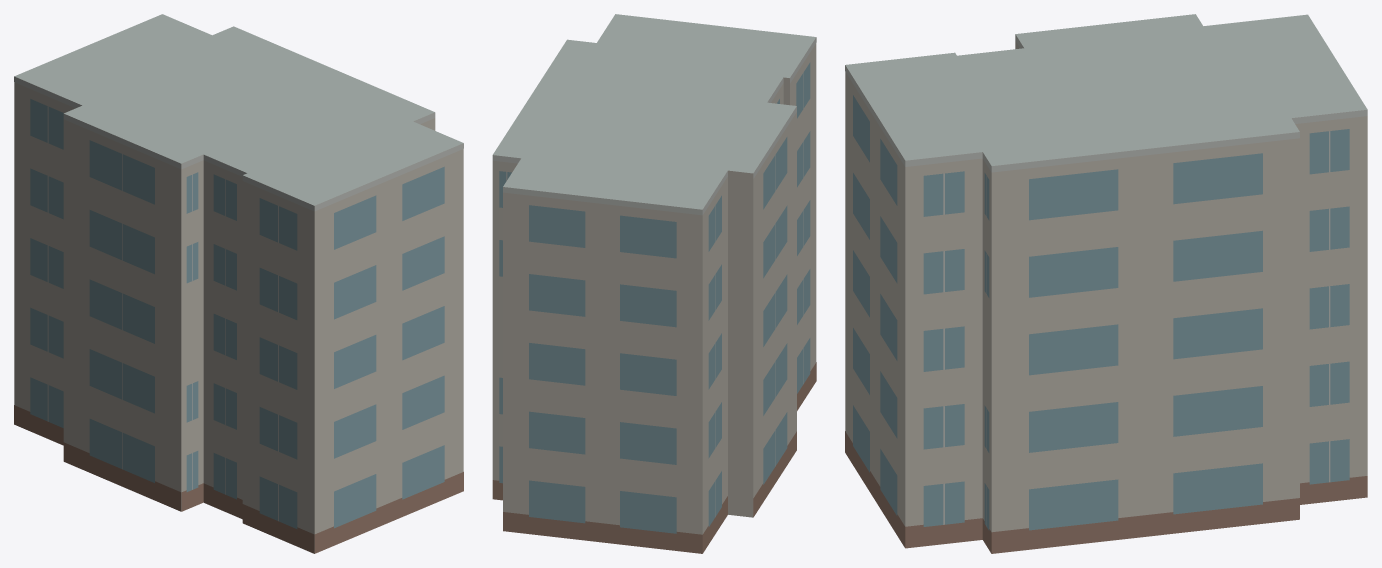
Rendered from survey-upis-32695249.glb.
3 renders of one model, left to right at view 1: azimuth 30°, elevation 25°; view 2: azimuth 150°, elevation 25°; view 3: azimuth 270°, elevation 25°, orthographic. The views are drawn at different scales.
Visible parts, largest first — view 1: survey-upis-32695249.tmp; view 2: survey-upis-32695249.tmp; view 3: survey-upis-32695249.tmp.
Boxes of the visible parts, left/top/right/bottom form: survey-upis-32695249.tmp: left=14, top=14, right=463, bottom=553; survey-upis-32695249.tmp: left=492, top=14, right=816, bottom=553; survey-upis-32695249.tmp: left=845, top=14, right=1367, bottom=553.
Size of the model in its own units: 12.51 by 14.85 by 18.15.
